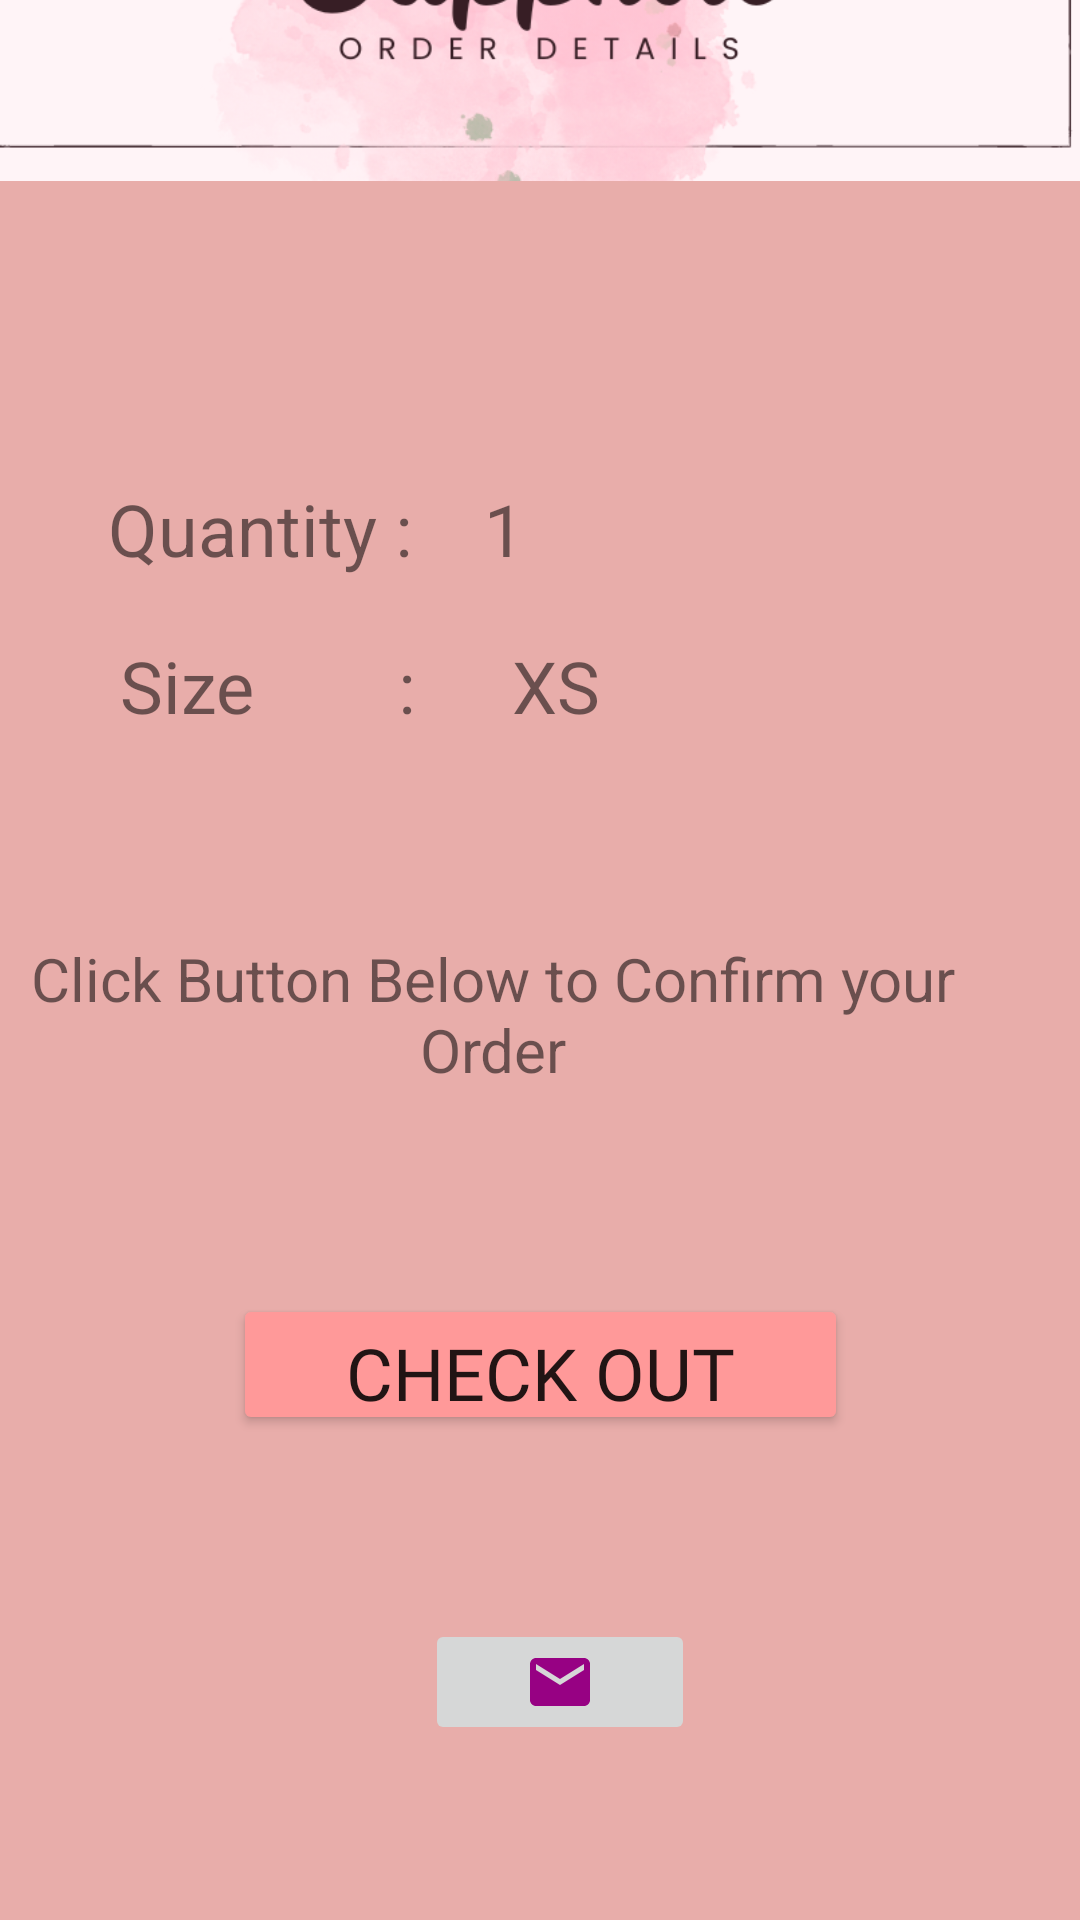

Named icons in this screenshot (1080 x 1920) and their bounding boxes, (x1, y1, x2, y2):
email: (437, 1637, 683, 1727)
